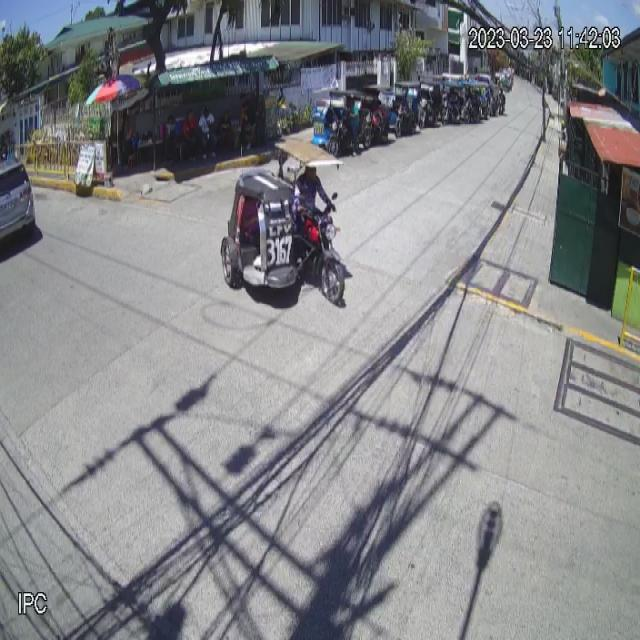Tricycle: (220, 136, 346, 309)
